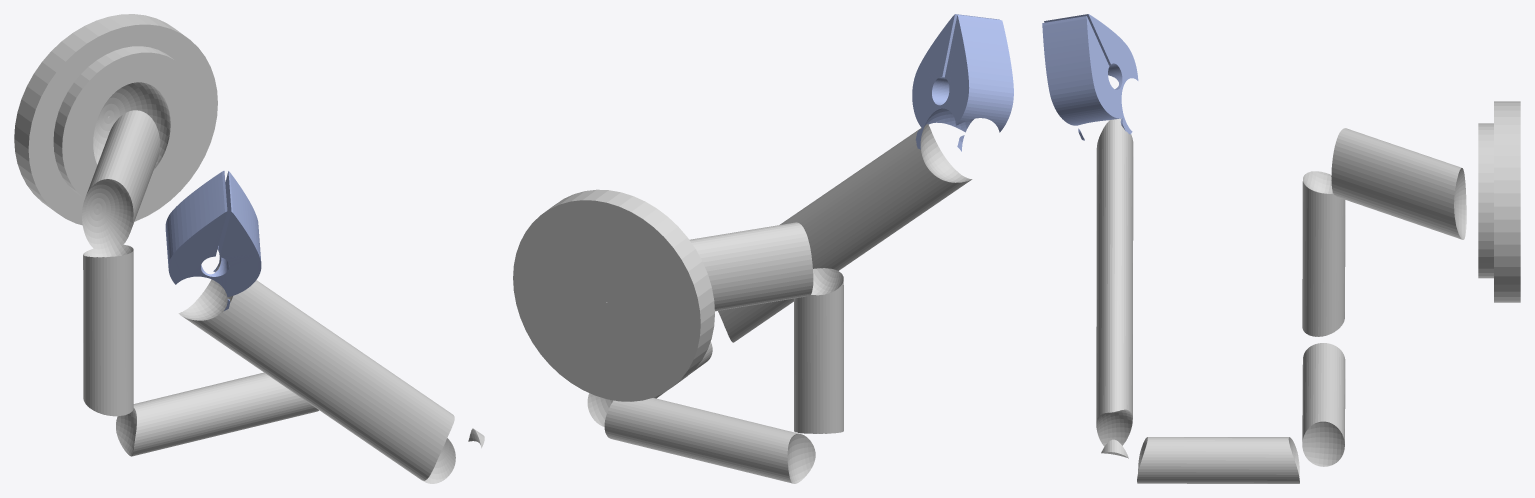
File: tinker.obj
3 renders of one model, left to right at view 1: azimuth 30°, elevation 25°; view 2: azimuth 150°, elevation 25°; view 3: azimuth 270°, elevation 25°, orthographic. The views are drawn at different scales.
Visible parts, largest first — view 1: group_0_16448250, group_0_11452141; view 2: group_0_16448250, group_0_11452141; view 3: group_0_16448250, group_0_11452141.
Part boxes in pixels (box(x1,y1,x2,y2)): group_0_16448250: box(14, 14, 484, 483); group_0_11452141: box(165, 171, 261, 310); group_0_16448250: box(513, 124, 972, 483); group_0_11452141: box(912, 14, 1013, 151); group_0_16448250: box(1096, 101, 1520, 483); group_0_11452141: box(1042, 14, 1138, 140).
Size of the model in its own units: 66 by 75 by 90.16.
